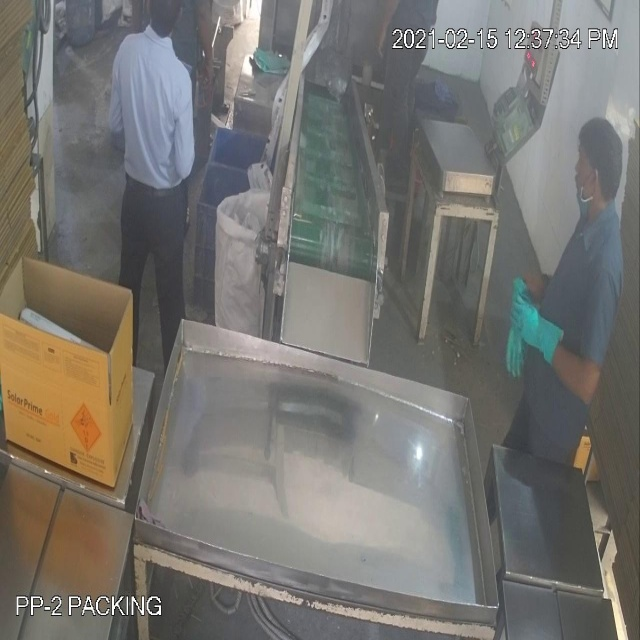Guantes: (510, 286, 575, 371)
Sin_guantes: (197, 4, 222, 100), (375, 1, 400, 74)
